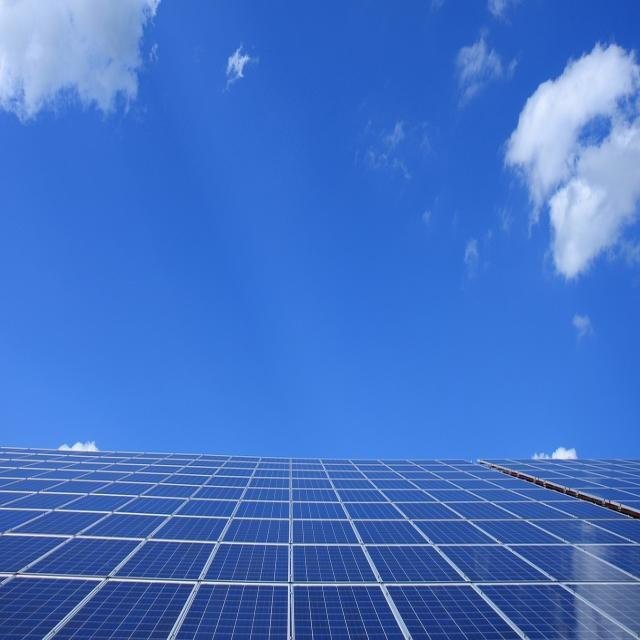Photovoltaic-Panel: (1, 449, 640, 639)
